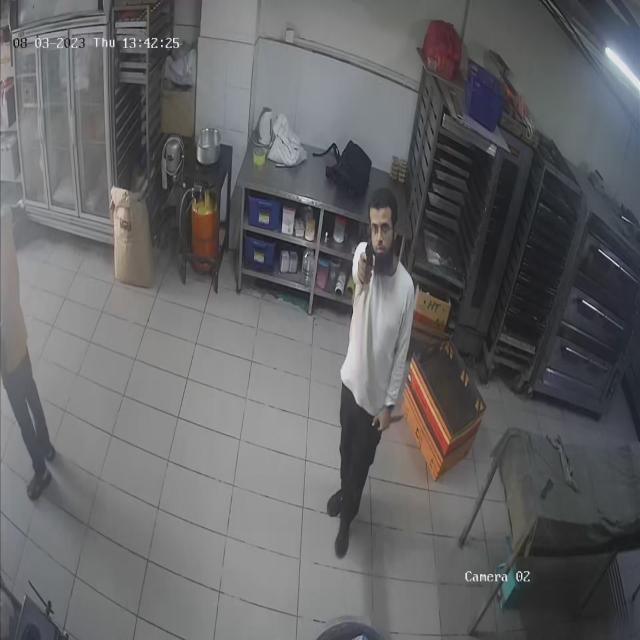Gun: (359, 241, 382, 280)
